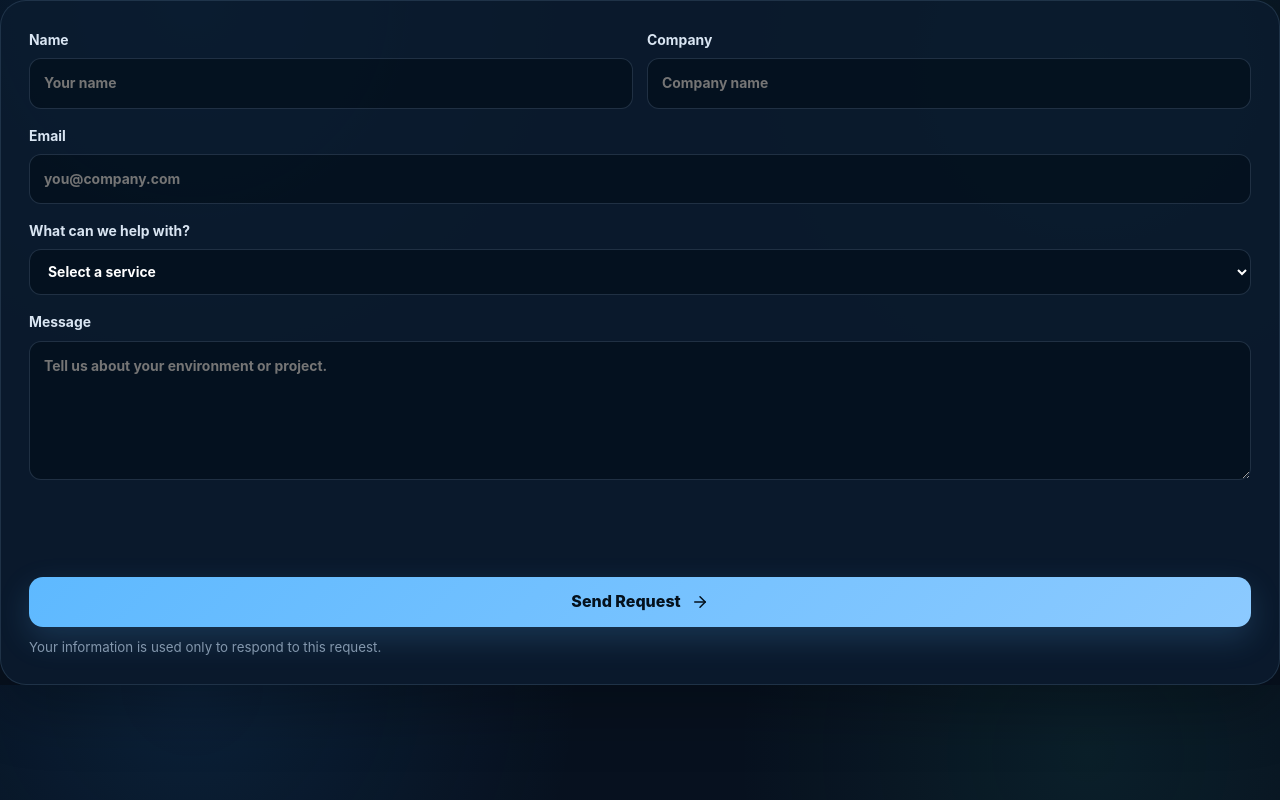
Test: ContactForm › submits exact JSON and disables duplicate submission
Type "Jane Smith" into the field labelled "Name" at [331, 83], box left=29, top=58, right=633, bottom=109
Type "Example Co" into the field labelled "Company" at [949, 83], box left=647, top=58, right=1251, bottom=109
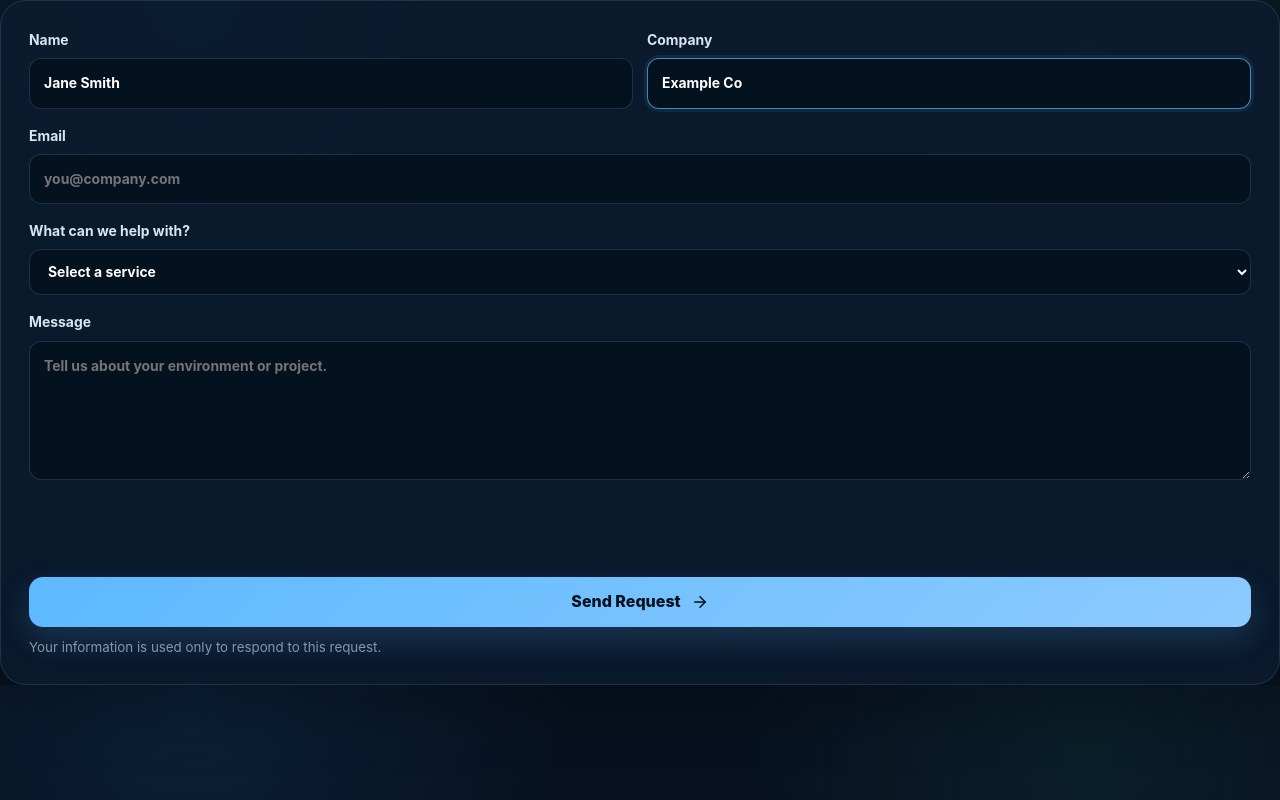
Type "jane@example.com" into the field labelled "Email" at [640, 179], box left=29, top=154, right=1251, bottom=204
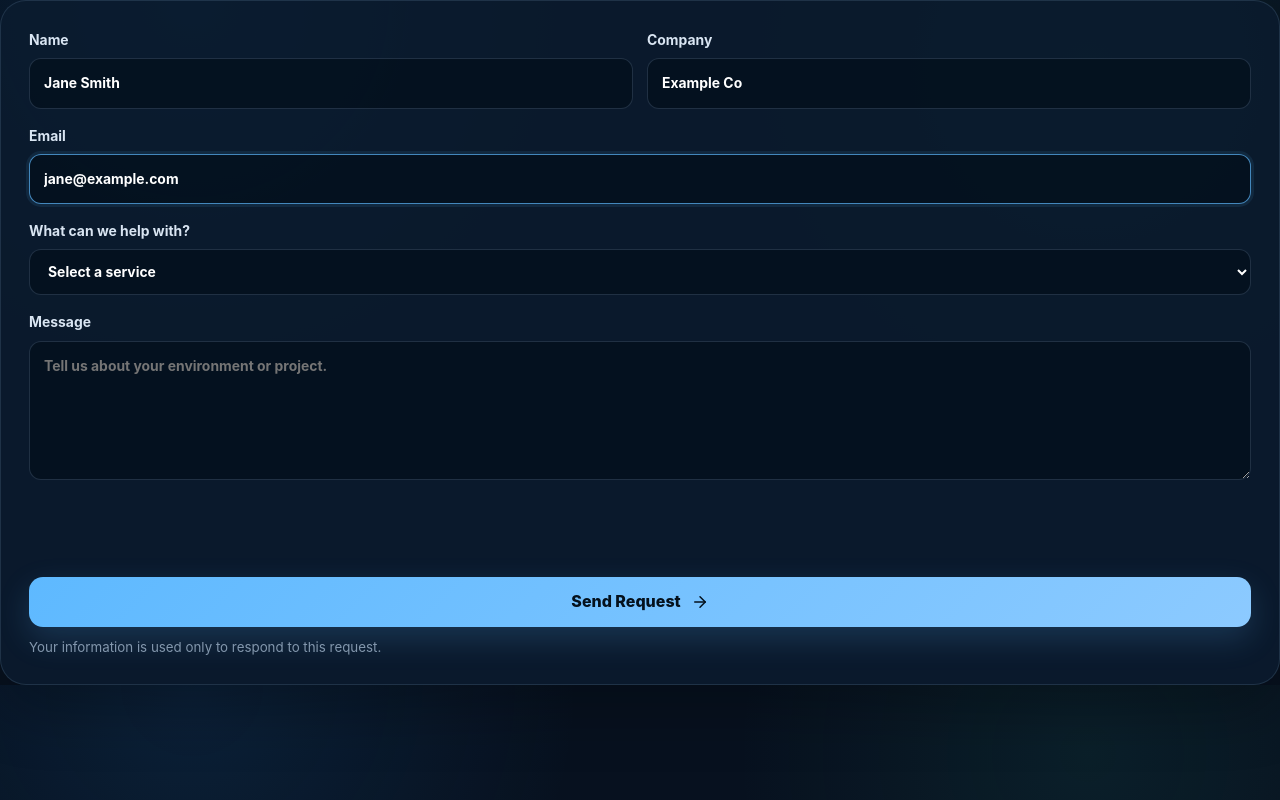
Select "Cloud Security" in the dropdown labelled "What can we help with?" at [640, 272], box left=29, top=249, right=1251, bottom=295
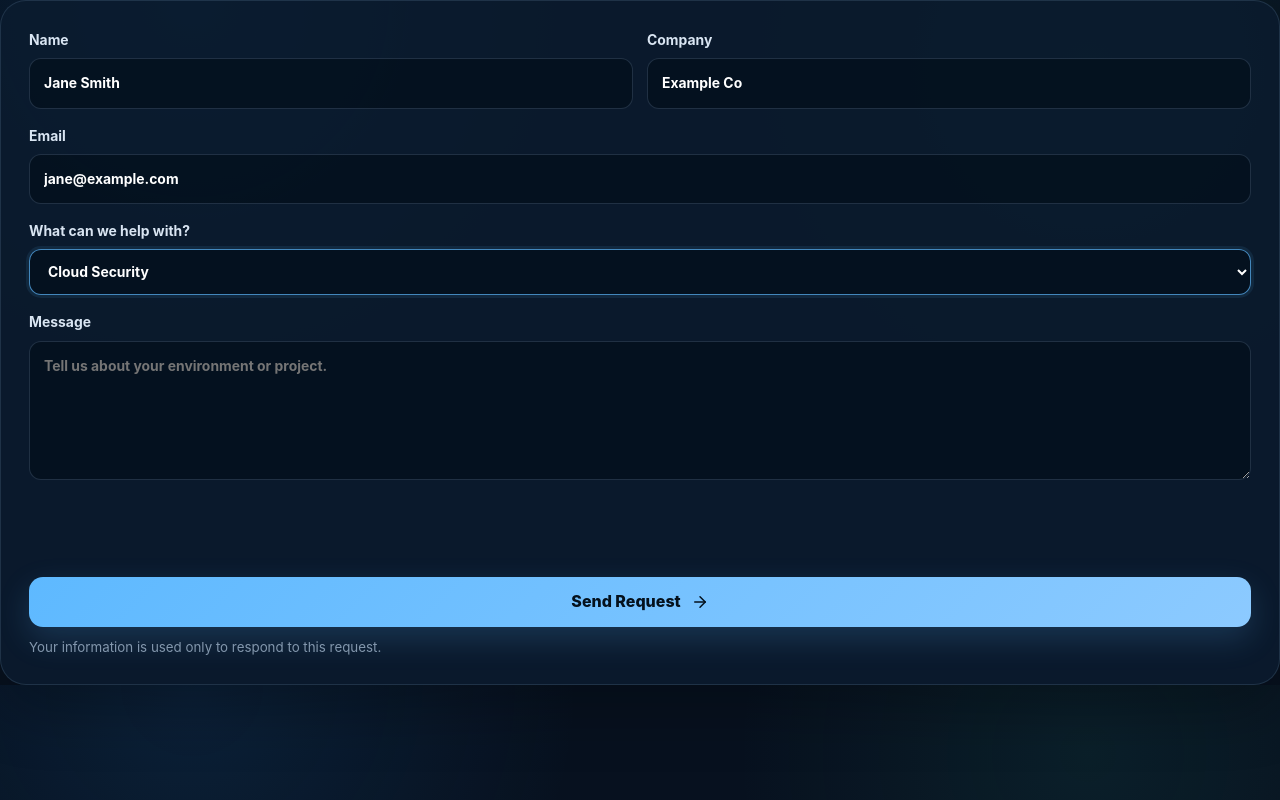
Type "Please review our AWS environment." into the text box labelled "Message" at [640, 410], box left=29, top=341, right=1251, bottom=480
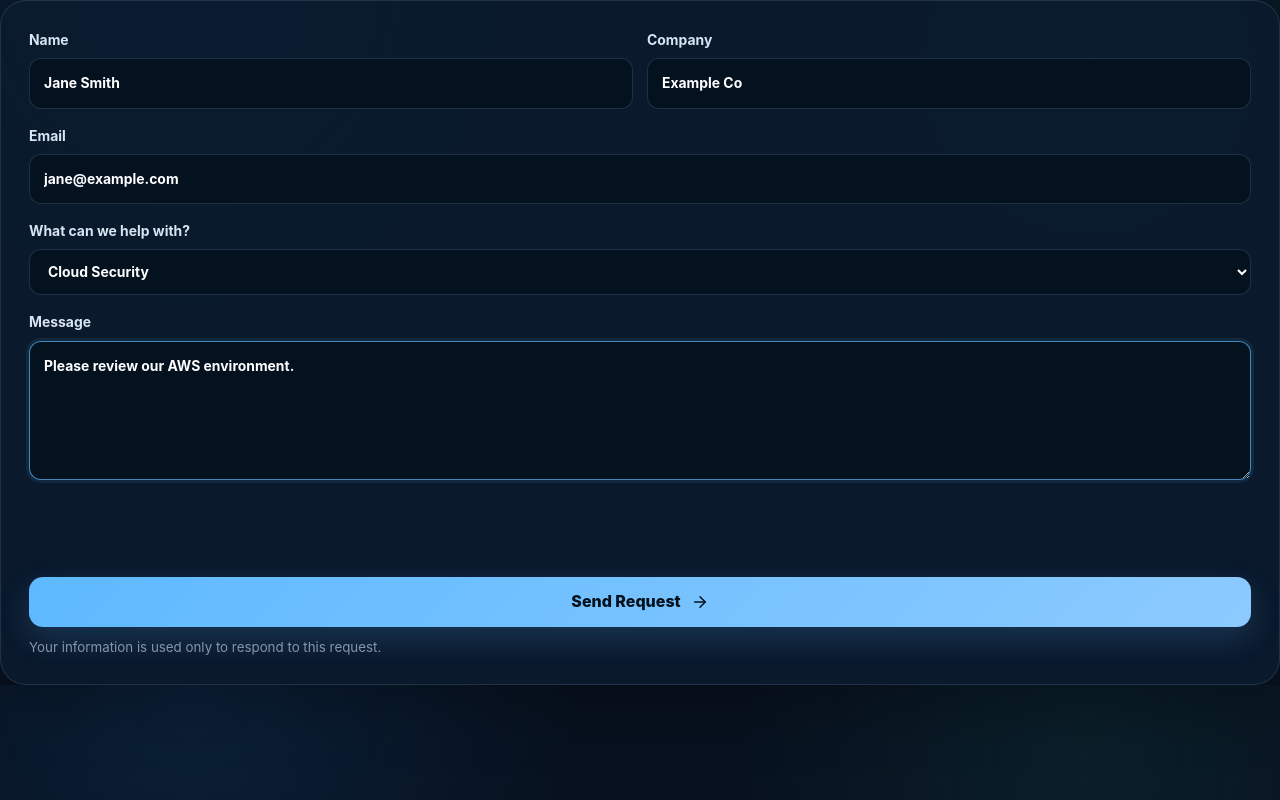
Click the button "Send Request" at [640, 602], box left=29, top=577, right=1251, bottom=627
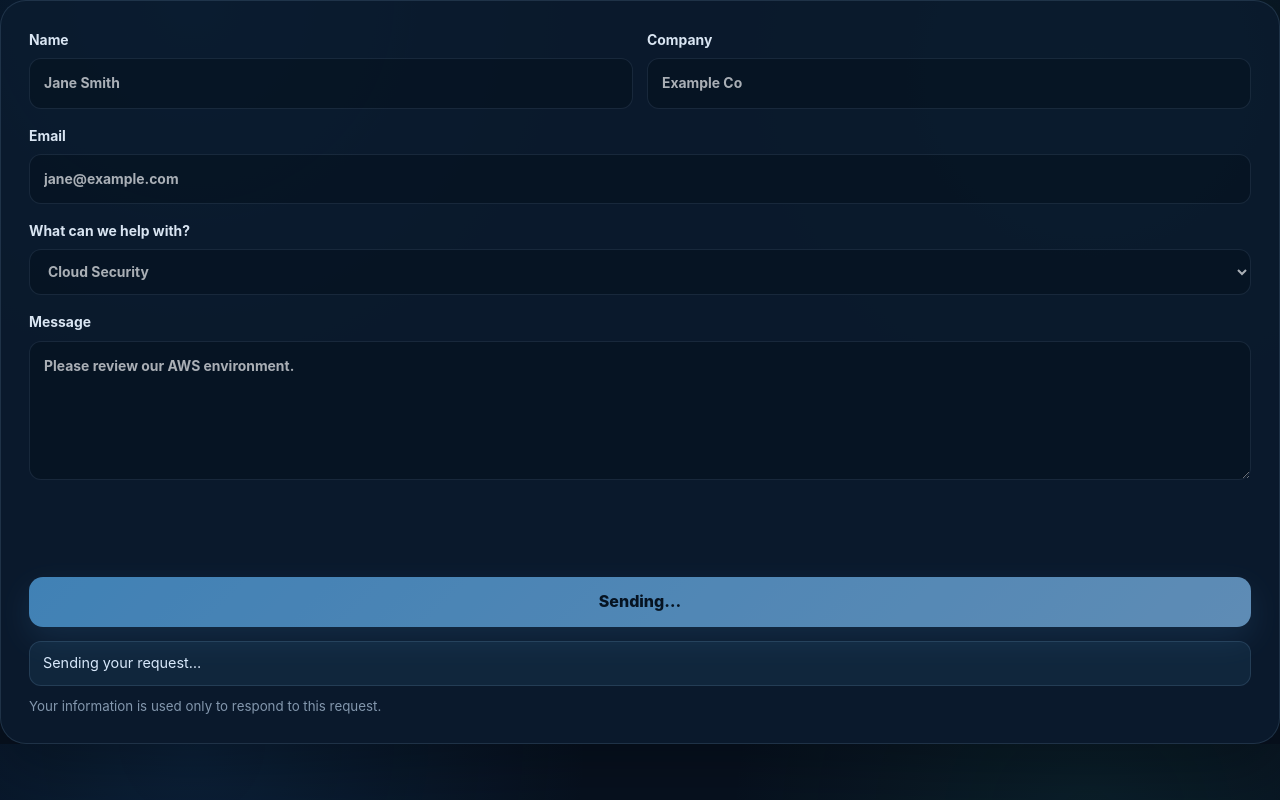
Result: the button "Sending…" is disabled
Click the button "Sending…" at [640, 602], box left=29, top=577, right=1251, bottom=627
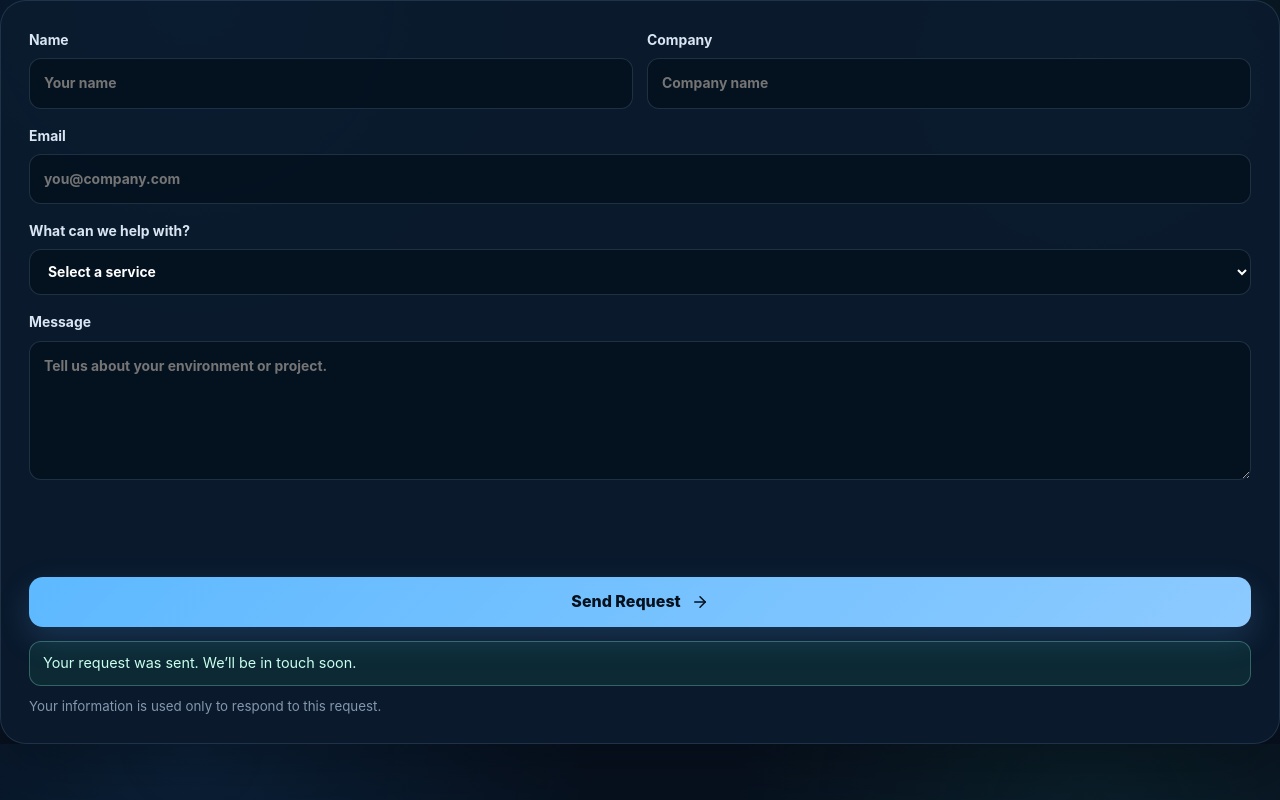
Result: the text "Your request was sent. We’ll be in touch soon." is shown at left=29, top=641, right=1251, bottom=686
